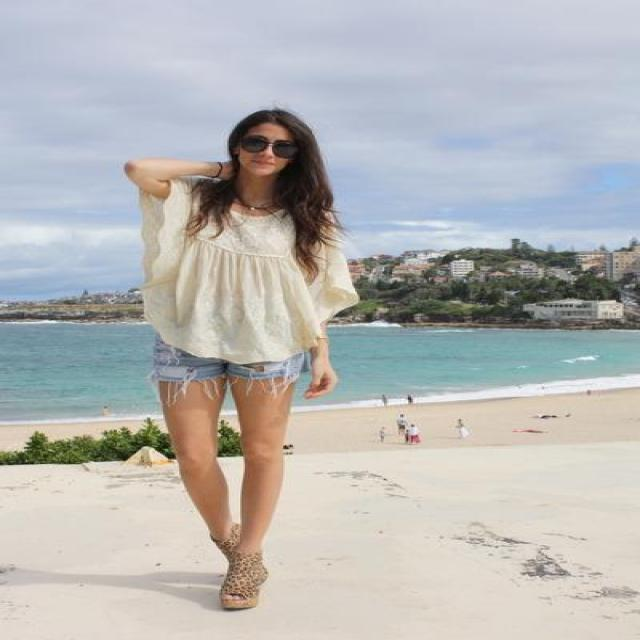shirt: (120, 192, 371, 370)
shoe: (210, 534, 267, 612)
shorts: (149, 348, 307, 392)
sunglass: (229, 126, 269, 165)
